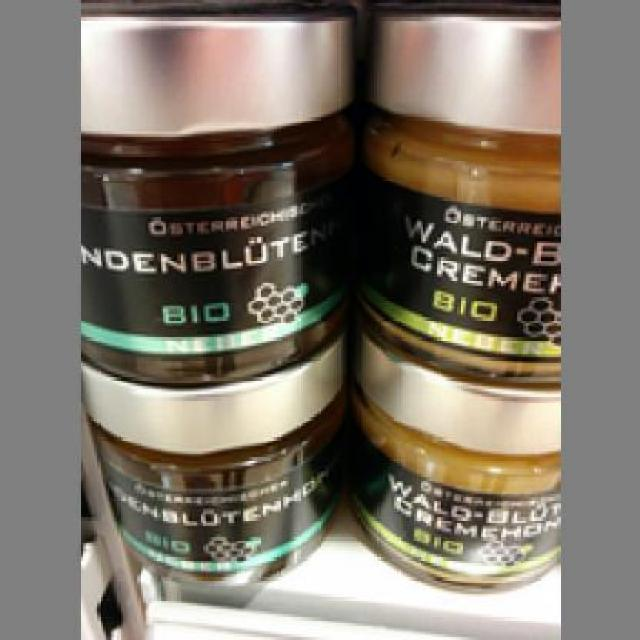Honey: (77, 9, 357, 380), (366, 6, 563, 380), (68, 337, 352, 566), (351, 326, 564, 597)
